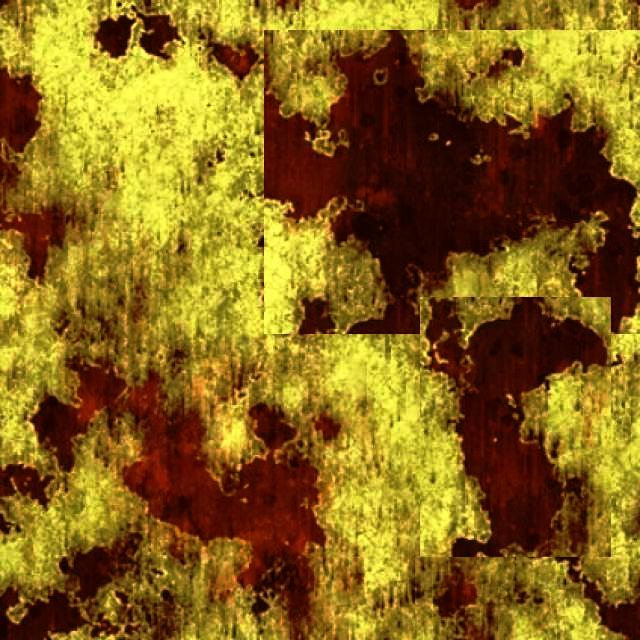Corrosion: (265, 30, 640, 331), (123, 376, 325, 640), (448, 298, 609, 557), (0, 548, 127, 640), (30, 360, 126, 472), (0, 66, 41, 184), (0, 210, 65, 281), (30, 396, 87, 472), (0, 68, 41, 151), (349, 298, 420, 333), (0, 466, 50, 509), (208, 40, 259, 80), (5, 465, 50, 510), (139, 14, 180, 59), (95, 14, 135, 56), (600, 602, 640, 640), (299, 298, 335, 334), (315, 414, 342, 442), (587, 586, 596, 601)
